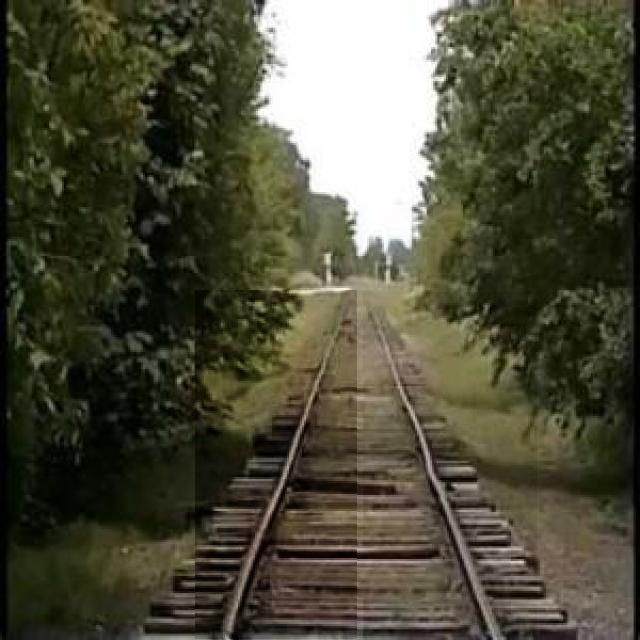rail: (365, 293, 538, 638), (197, 292, 358, 640)
